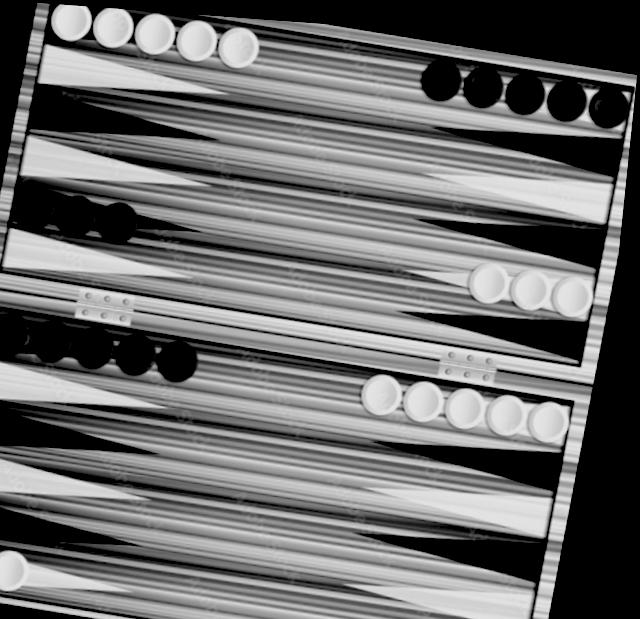bar: (0, 271, 592, 390)
board: (0, 0, 640, 619)
dark_p: (33, 311, 87, 366), (12, 180, 65, 234), (417, 46, 470, 99), (56, 187, 109, 240), (583, 72, 637, 124), (158, 332, 212, 384), (500, 60, 553, 111), (544, 66, 595, 117), (118, 326, 169, 377), (76, 320, 127, 371), (460, 53, 509, 106), (98, 194, 148, 244), (0, 306, 44, 359), (452, 609, 502, 619), (493, 616, 544, 619)
light_p: (552, 260, 607, 314), (448, 372, 501, 427), (468, 247, 520, 301), (212, 18, 265, 69), (509, 255, 560, 308), (490, 380, 541, 433), (170, 11, 220, 62), (363, 363, 414, 413), (86, 5, 139, 51), (129, 8, 179, 56), (407, 370, 456, 418), (0, 545, 46, 594), (44, 3, 95, 45), (0, 536, 4, 588)
